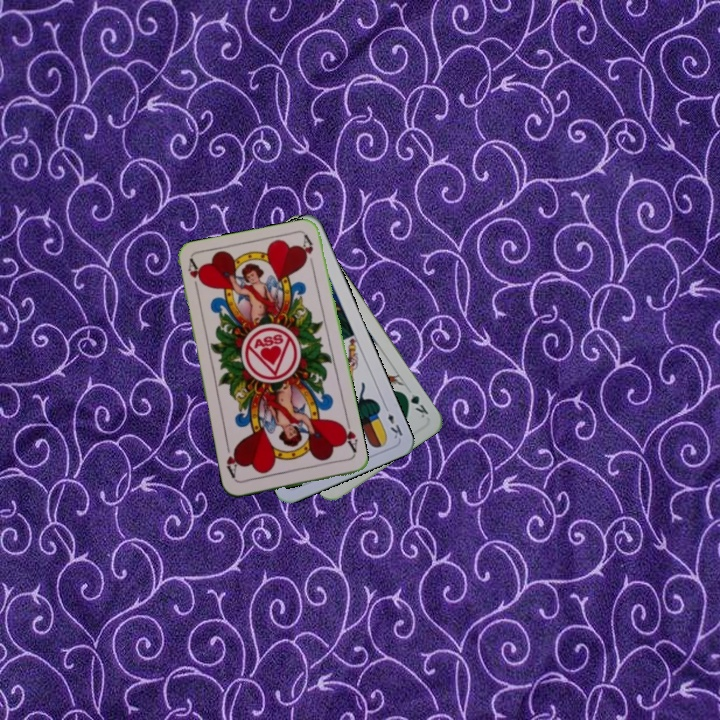EK: (380, 401, 405, 441)
GK: (399, 388, 431, 420)
HA: (336, 417, 360, 458), (183, 256, 205, 297)
